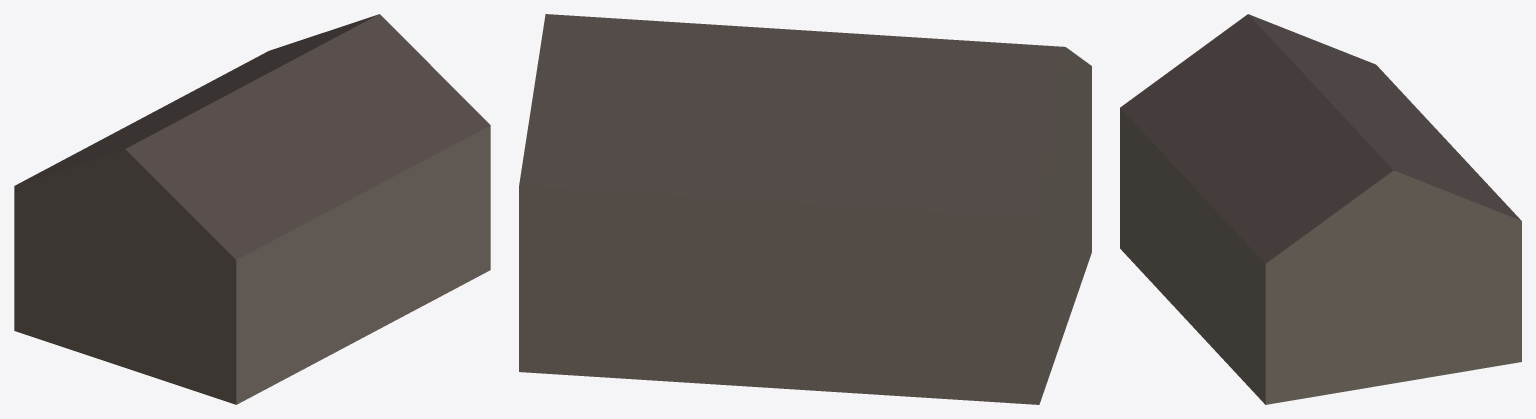
3 renders of one model, left to right at view 1: azimuth 30°, elevation 25°; view 2: azimuth 150°, elevation 25°; view 3: azimuth 270°, elevation 25°, orthographic. The views are drawn at different scales.
Visible parts, largest first — view 1: HP-w1200742925; view 2: HP-w1200742925; view 3: HP-w1200742925.
Part boxes in pixels (x1,y1,x2,y2): HP-w1200742925: [14, 14, 490, 404]; HP-w1200742925: [519, 14, 1091, 404]; HP-w1200742925: [1120, 14, 1521, 404].
Bounding box in the file's own units: 18.21 × 9.07 × 15.5.
